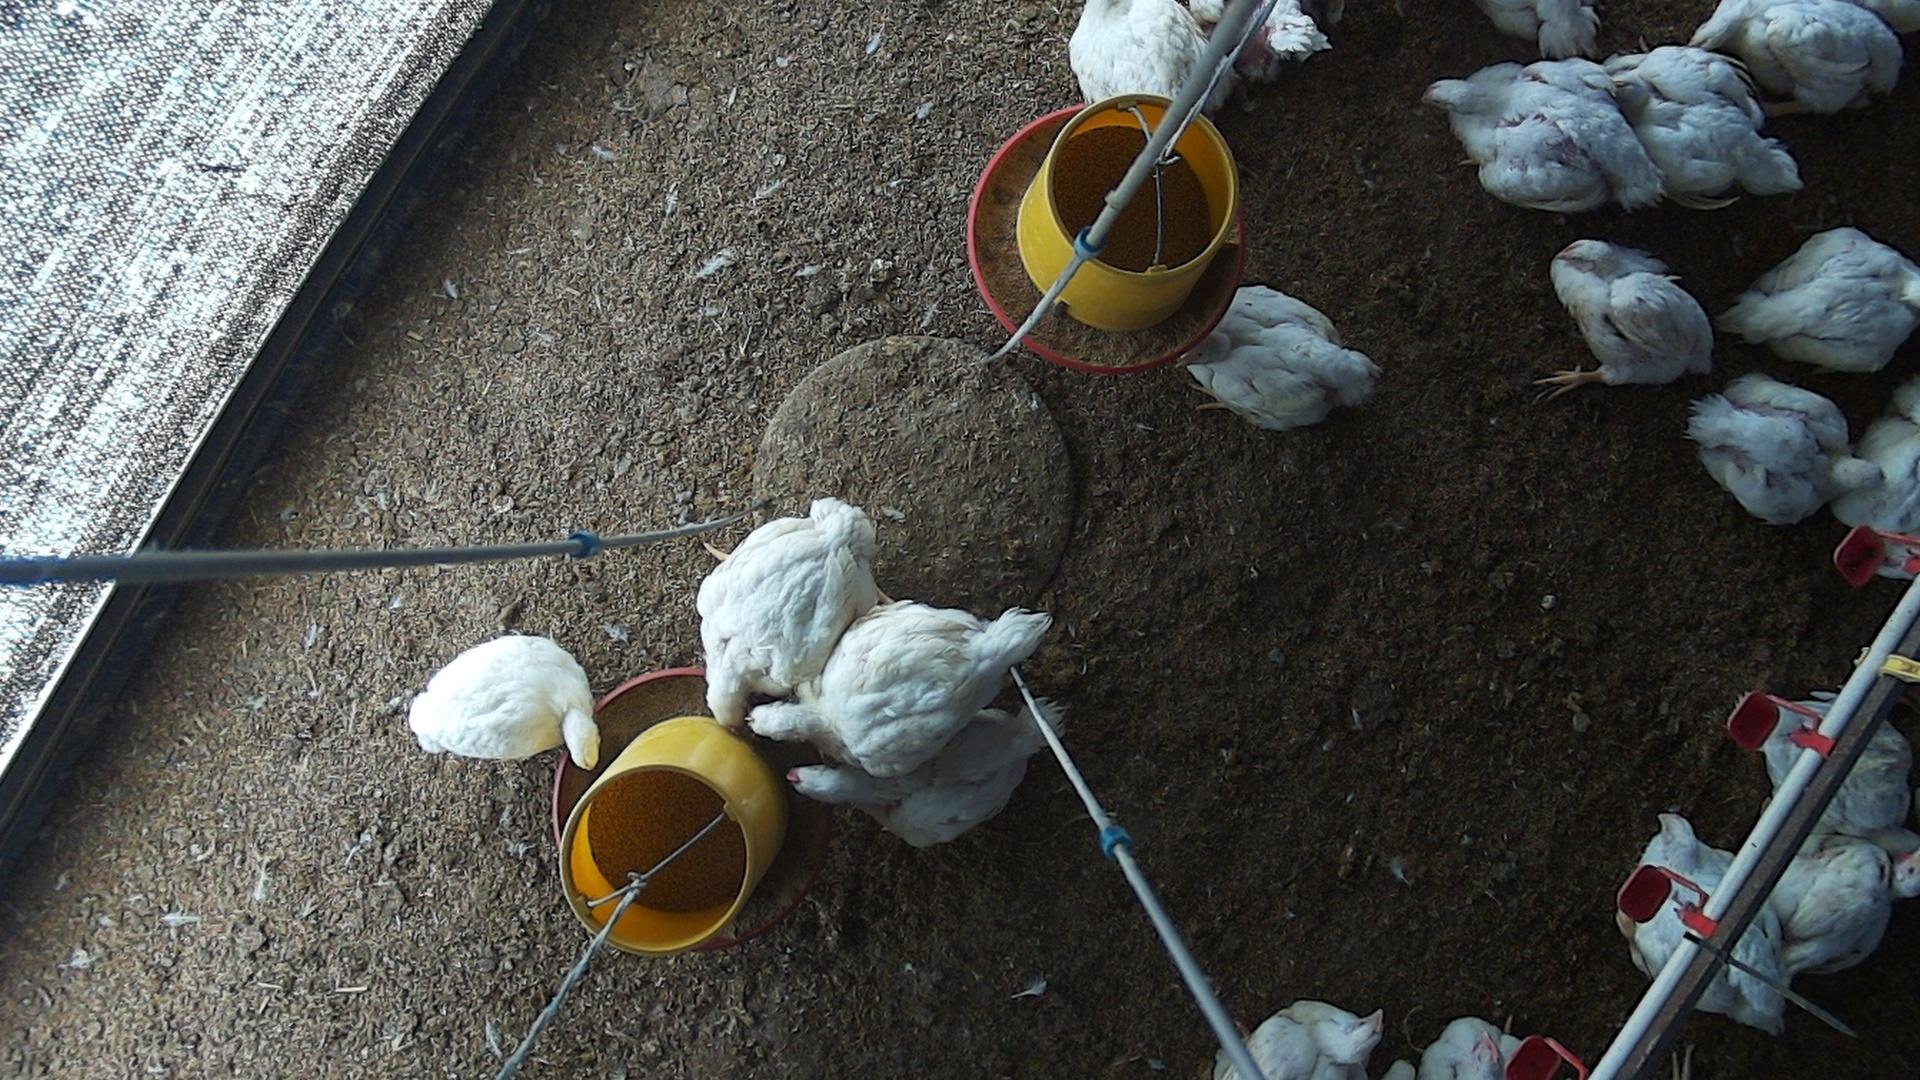ayam_broiler: (748, 601, 1052, 774), (696, 496, 889, 725), (787, 698, 1065, 847), (1422, 58, 1664, 215), (1606, 45, 1800, 203), (1685, 373, 1886, 525), (1531, 239, 1713, 400), (1722, 227, 1920, 372), (1182, 286, 1378, 430), (409, 634, 603, 769), (1691, 0, 1902, 112), (1069, 0, 1241, 115), (1771, 837, 1902, 975), (1212, 1004, 1383, 1080), (1418, 1017, 1523, 1079)
